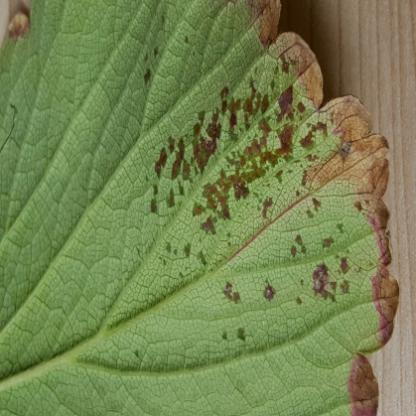Strawberry_Angular_LeafSpot: (123, 0, 403, 415)
